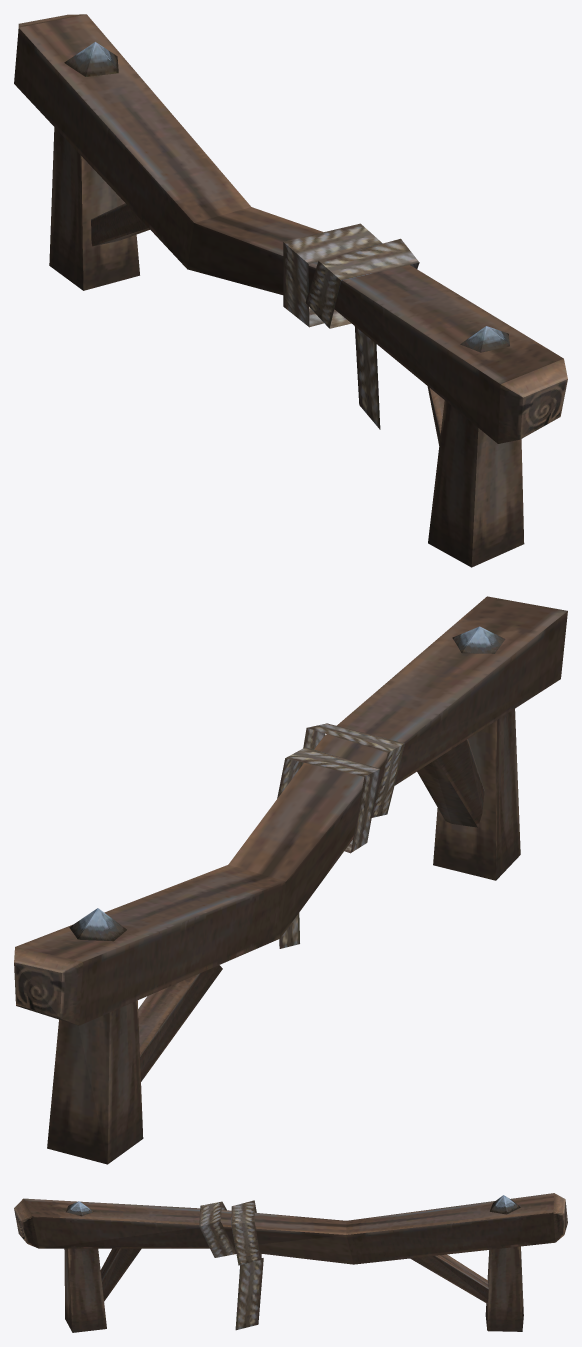
Rendered from mine_railing_large04.fbx.
3 renders of one model, top to bottom at view 1: azimuth 30°, elevation 25°; view 2: azimuth 150°, elevation 25°; view 3: azimuth 270°, elevation 25°, orthographic. The views are drawn at different scales.
Parts seen in each view (by area): view 1: obj1.014; view 2: obj1.014; view 3: obj1.014.
Part boxes in pixels (<box>): obj1.014: <box>14,14,567,567</box>; obj1.014: <box>14,596,567,1164</box>; obj1.014: <box>14,1193,567,1332</box>.
Bounding box in the file's own units: 0.675 × 1.6 × 6.21.
